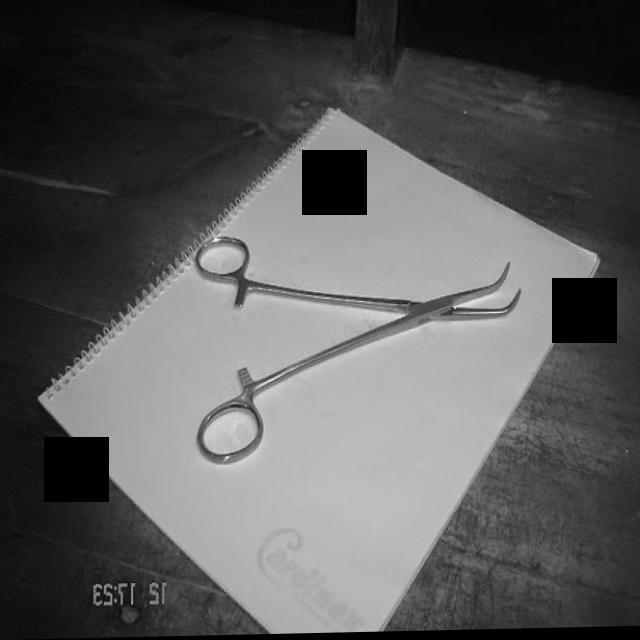Rectangle Cholecystectomy Forceps: (180, 228, 524, 478)
